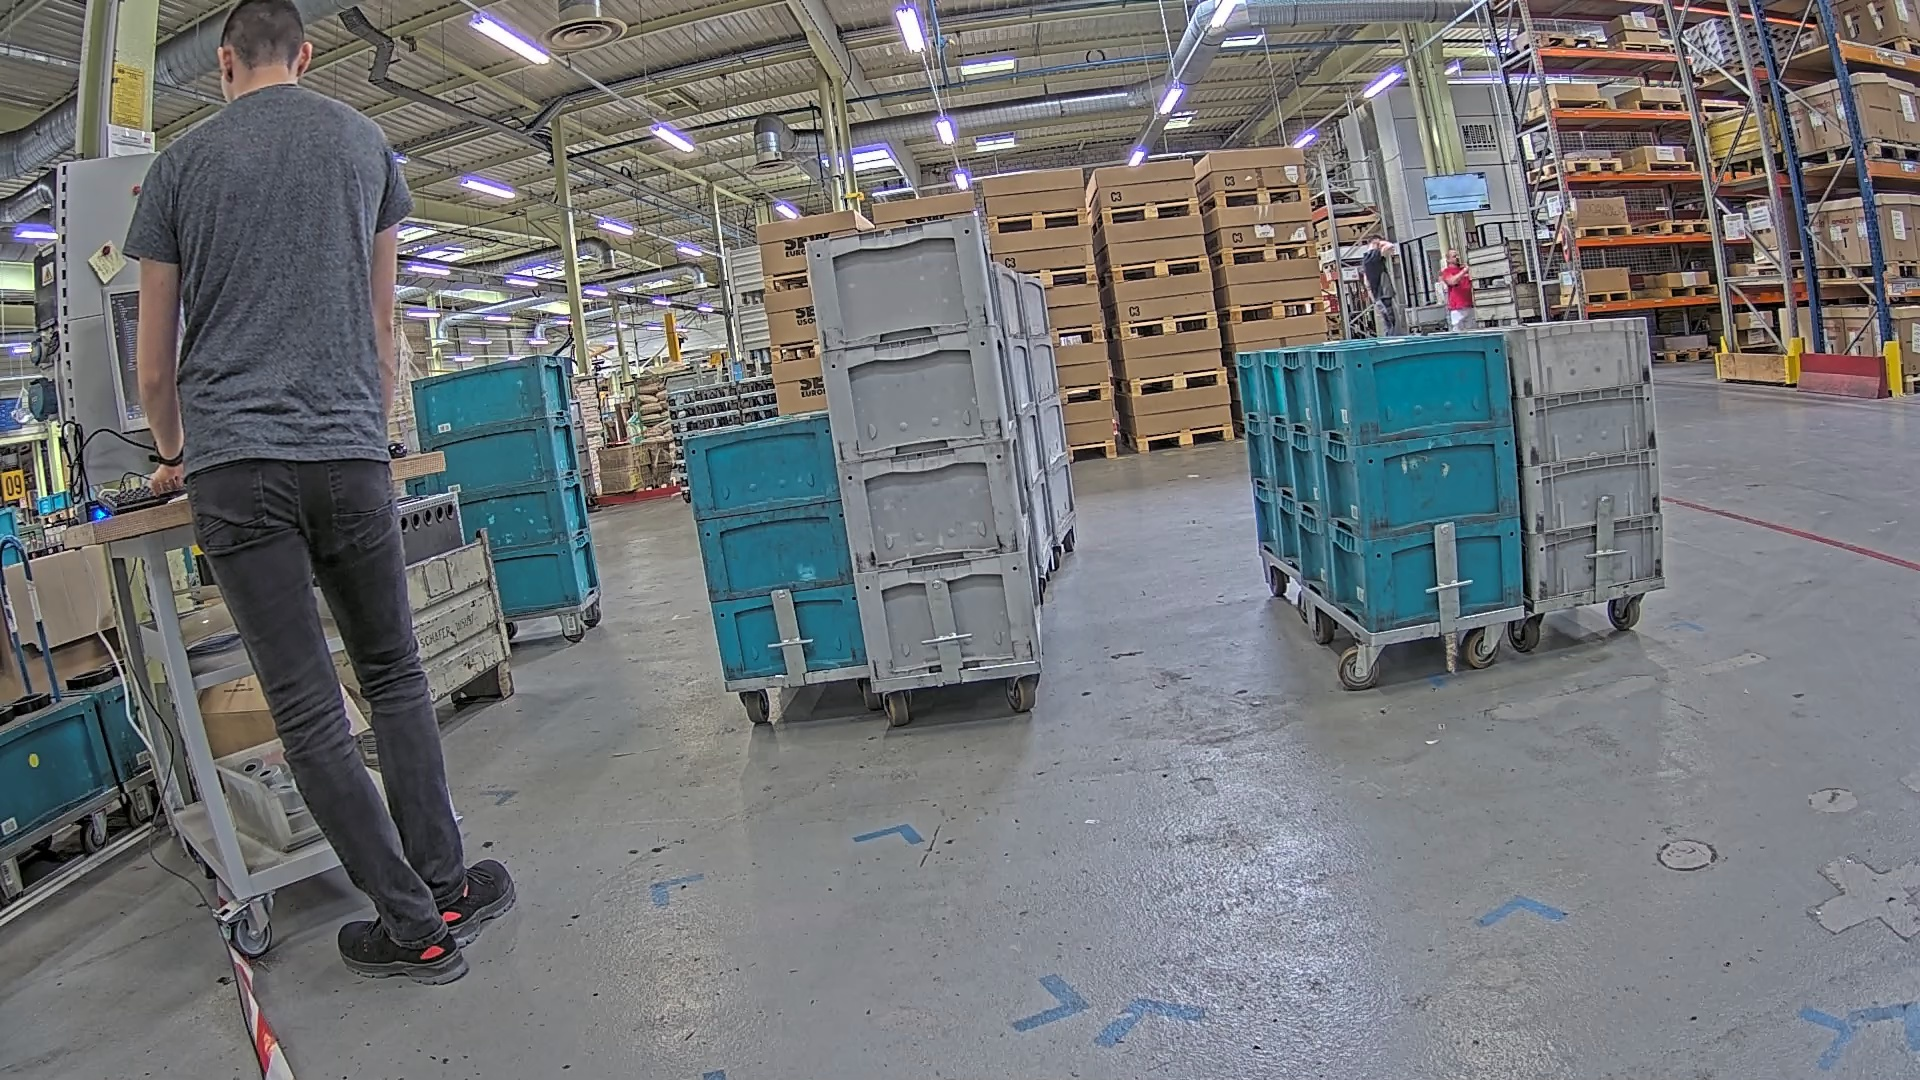4G: (798, 208, 1044, 683)
8G: (1505, 316, 1665, 605)
B8: (1337, 330, 1530, 636), (682, 414, 874, 684)
